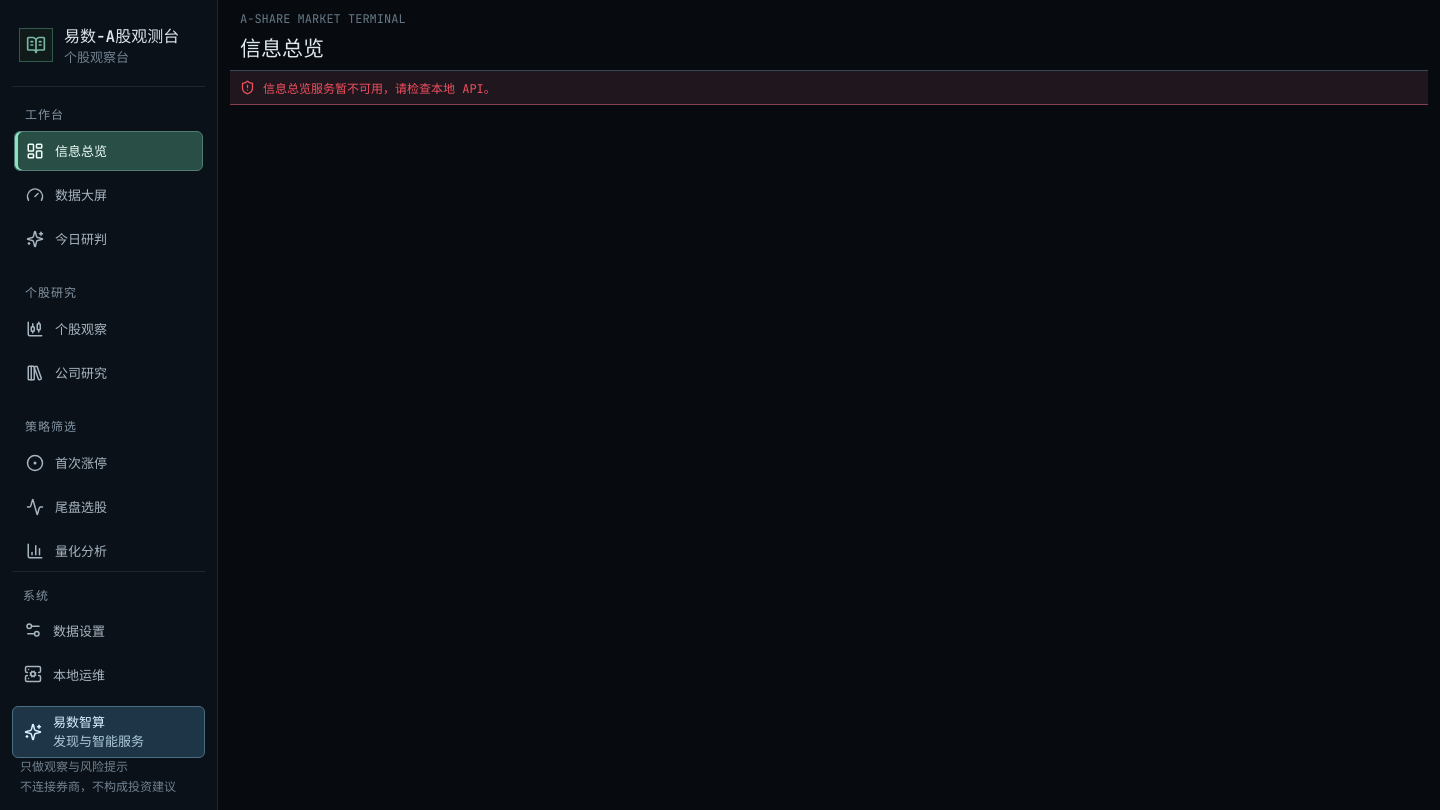
Dashboard beginner shell › opens A-share observation without legacy research internals
What coordinates should you click on to do the following:
click the button "个股观察"
I would click on:
 (108, 329)
Its box is [14,309,203,349].
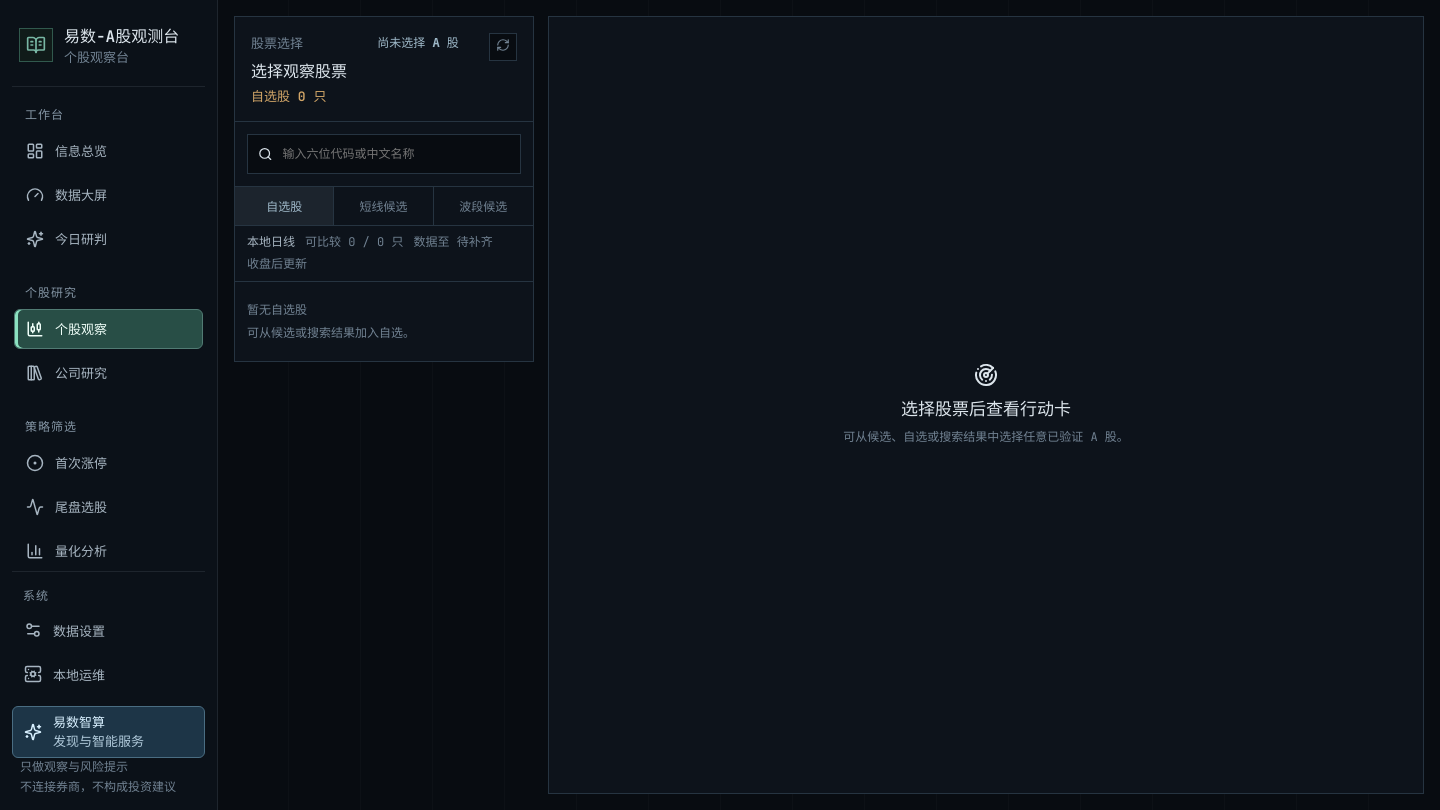
Result: the heading "选择观察股票" is shown at [251,58,347,82]
